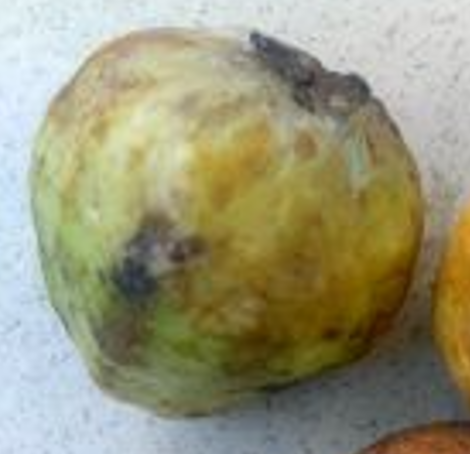guava_C: (29, 27, 426, 419)
